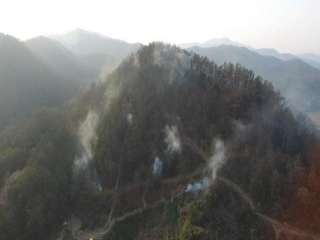smoke: (67, 50, 234, 199)
